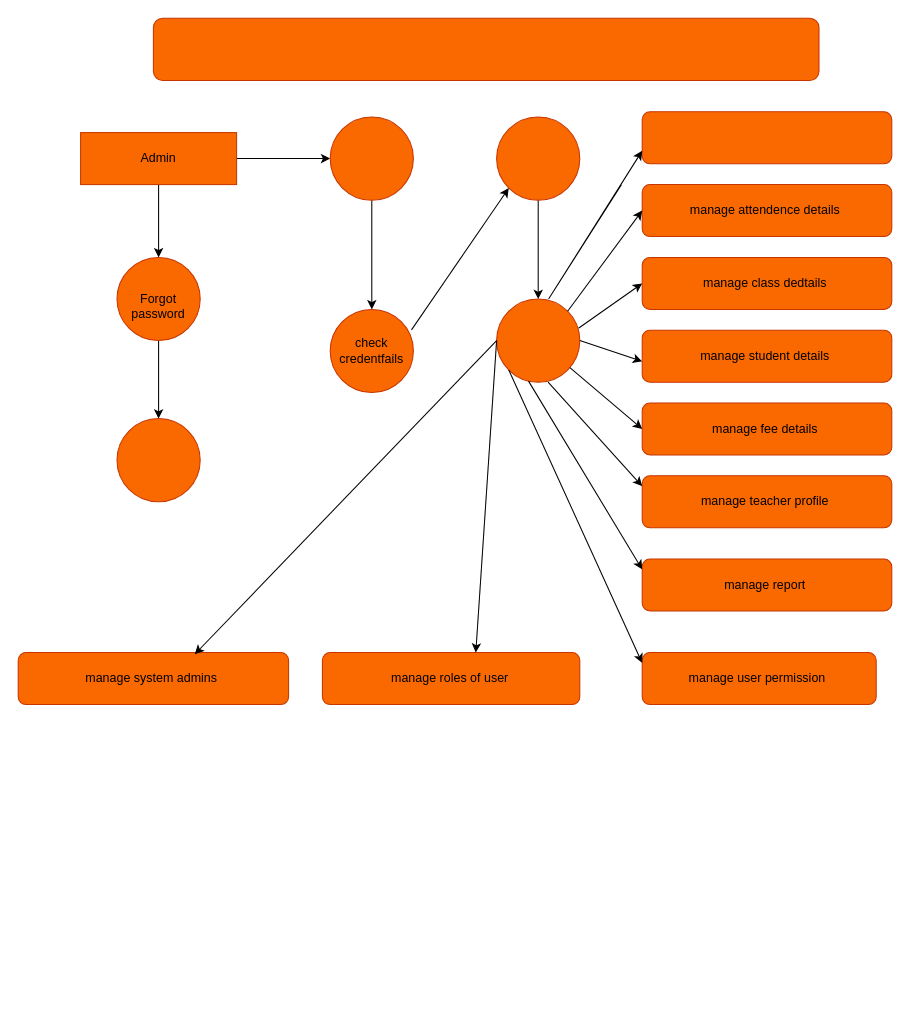
Image size: 910x1022. Some labels were removed from this diagram. The box of each missing label's shape, as (x1, y1, x2, y2) in pixels:
Check roles of access: (496, 116, 580, 200)
Log in to system: (329, 116, 413, 200)
Manage modules: (496, 298, 580, 382)
manage time table details: (641, 111, 892, 164)
Send e-mail to user: (116, 418, 200, 502)
Student information system: (152, 17, 819, 81)
